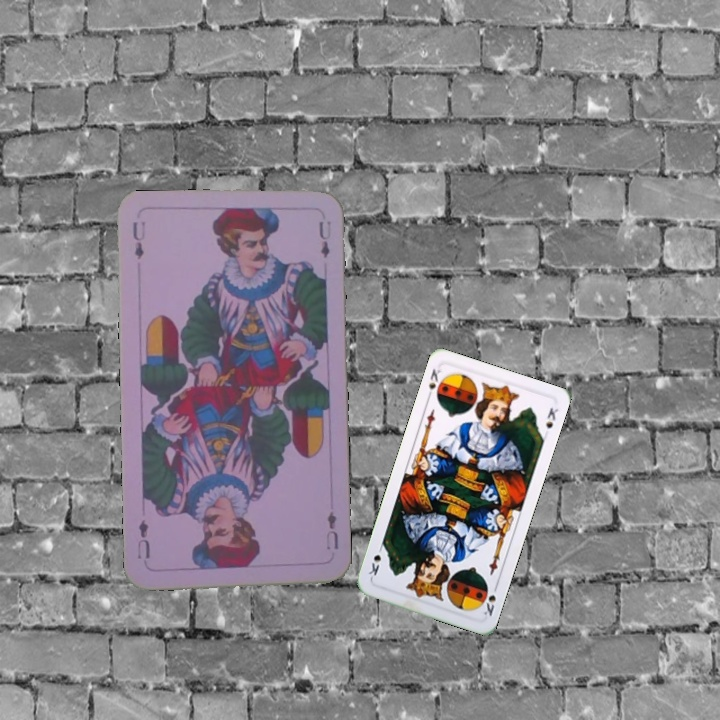EU: (322, 501, 341, 553), (128, 217, 148, 261)
SK: (479, 580, 501, 619), (423, 364, 443, 402)
